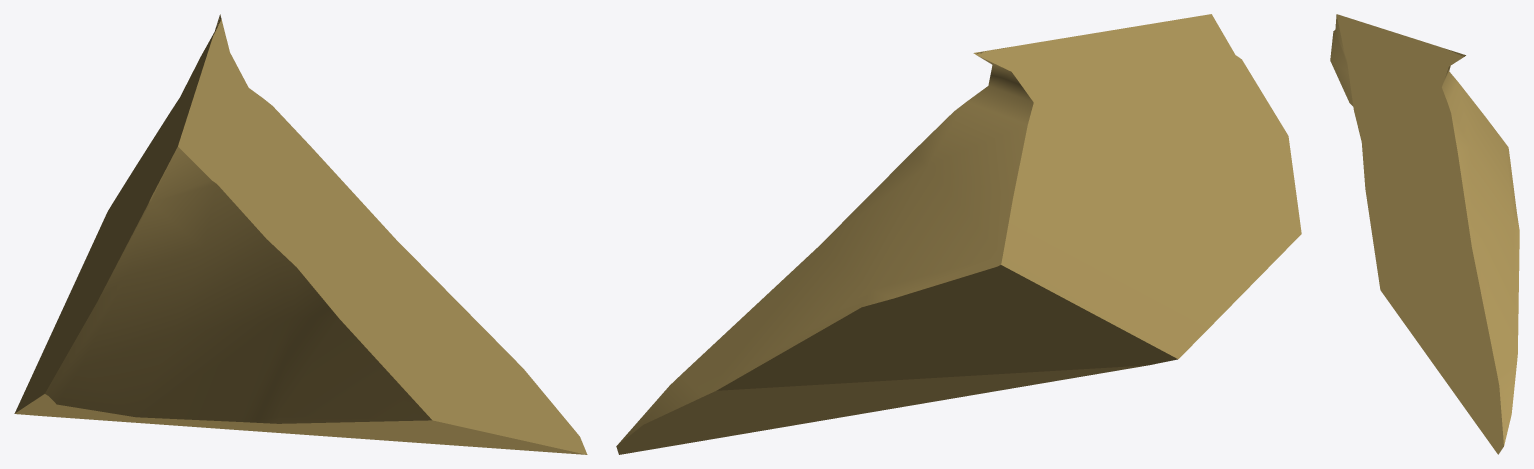
The model's file is broken_pot_cell.022_cell.014.fbx.
3 views of the same model, side by side, from view 1: azimuth 30°, elevation 25°; view 2: azimuth 150°, elevation 25°; view 3: azimuth 270°, elevation 25° (orthographic). The views are drawn at different scales.
Visible parts, largest first — view 1: broken_pot_cell.022_cell.014; view 2: broken_pot_cell.022_cell.014; view 3: broken_pot_cell.022_cell.014.
Part boxes in pixels (x1,y1,x2,y2): broken_pot_cell.022_cell.014: [14, 14, 587, 454]; broken_pot_cell.022_cell.014: [616, 14, 1301, 454]; broken_pot_cell.022_cell.014: [1330, 14, 1519, 454].
Size of the model in its own units: 0.7387 by 0.3348 by 0.5785.
